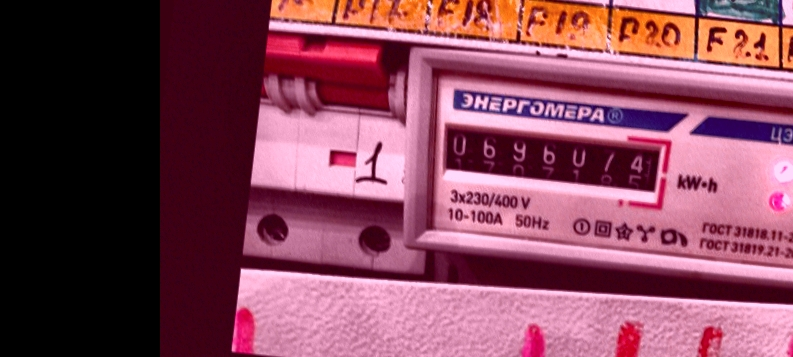0: (447, 128, 469, 154), (569, 140, 587, 167)
4: (627, 147, 645, 170)
5: (626, 172, 643, 188)
6: (540, 137, 560, 165), (479, 132, 499, 158)
7: (598, 145, 618, 171)
9: (509, 134, 528, 162)
screen: (428, 107, 675, 203)
